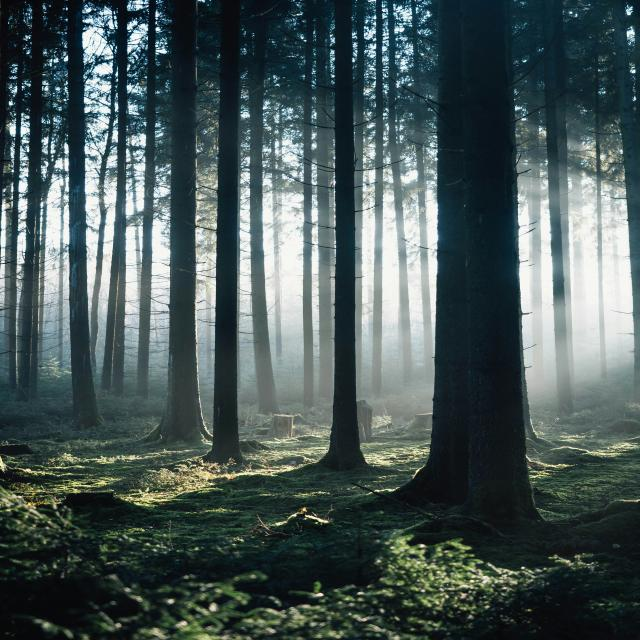Forest: (1, 22, 640, 640)
